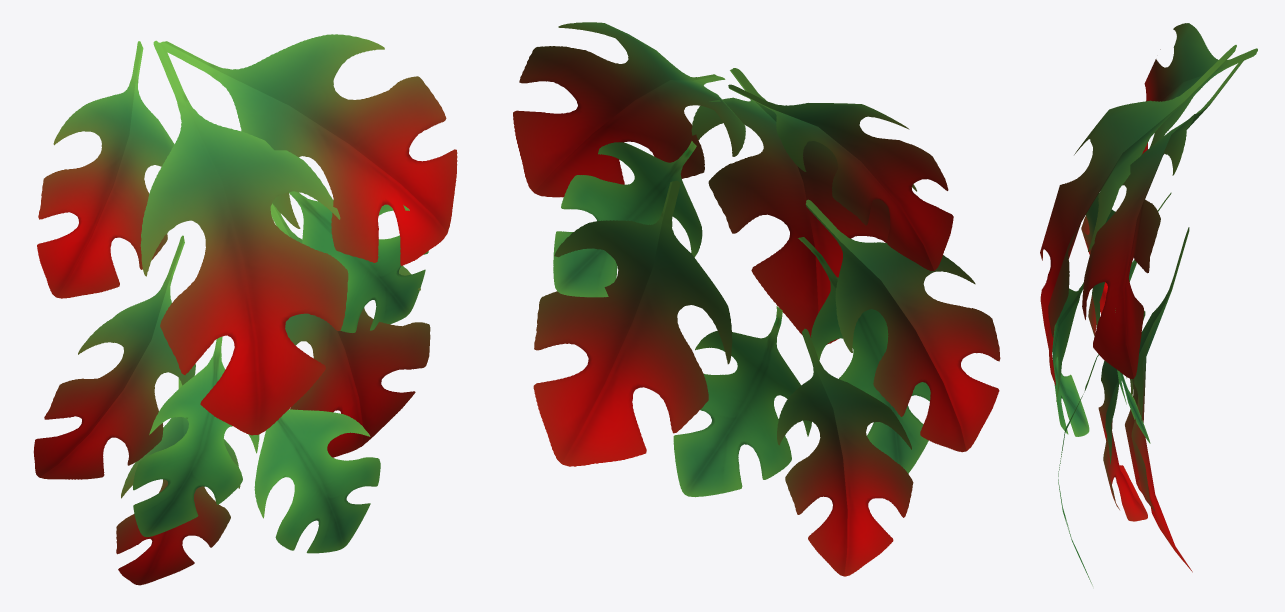
Rendered from RedMonstera_Vine.fbx.
The picture shows the model from 3 angles, left to right: view 1: azimuth 30°, elevation 25°; view 2: azimuth 150°, elevation 25°; view 3: azimuth 270°, elevation 25°; orthographic projection. The views are drawn at different scales.
Parts seen in each view (by area): view 1: Red Monstera.006; view 2: Red Monstera.006; view 3: Red Monstera.006.
Boxes of the visible parts, x1=… form: Red Monstera.006: x1=33, y1=34, x2=457, y2=585; Red Monstera.006: x1=513, y1=22, x2=1000, y2=576; Red Monstera.006: x1=1040, y1=23, x2=1257, y2=585.
Size of the model in its own units: 99.38 by 109 by 43.06.
2 materials, 2 textured.
